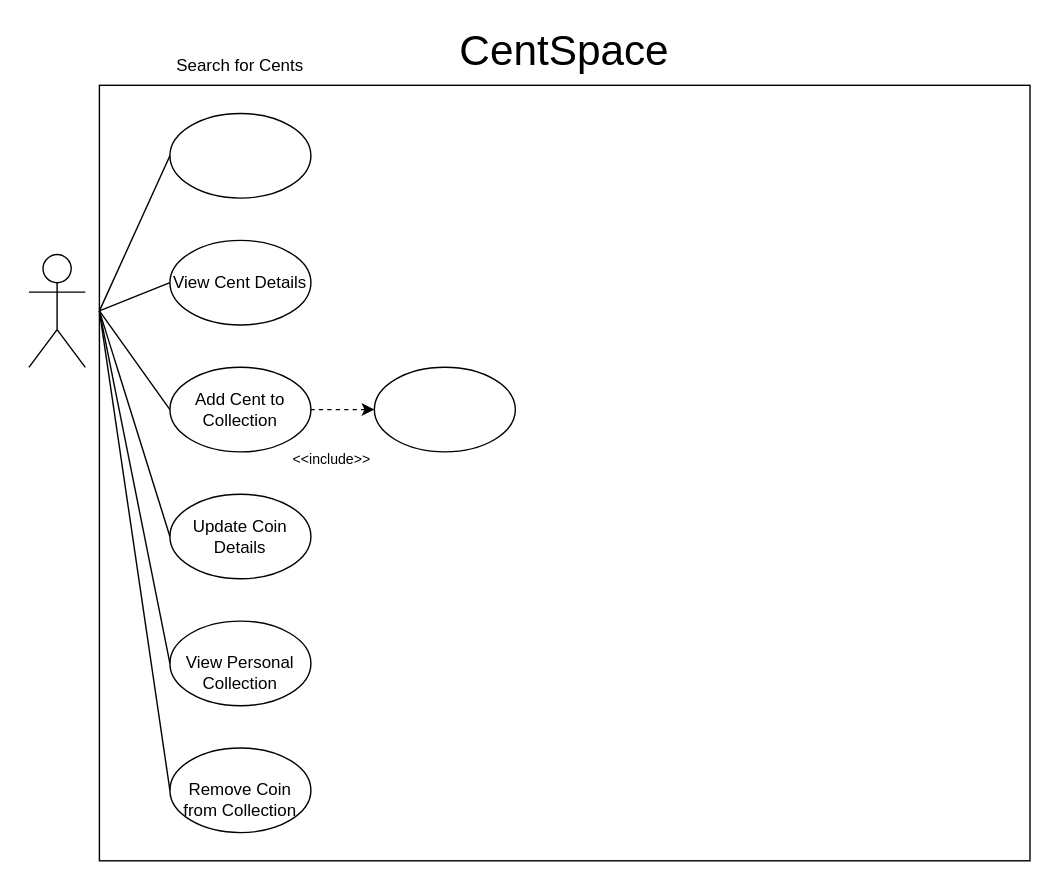
Some shapes in this 1055 by 885 pixel diagram are drawn without their labels. Here are the shapes that lost their labels. From the top down, the centre of each, then its label:
(x=56, y=310): Collector
(x=444, y=409): Enter Coin Details
